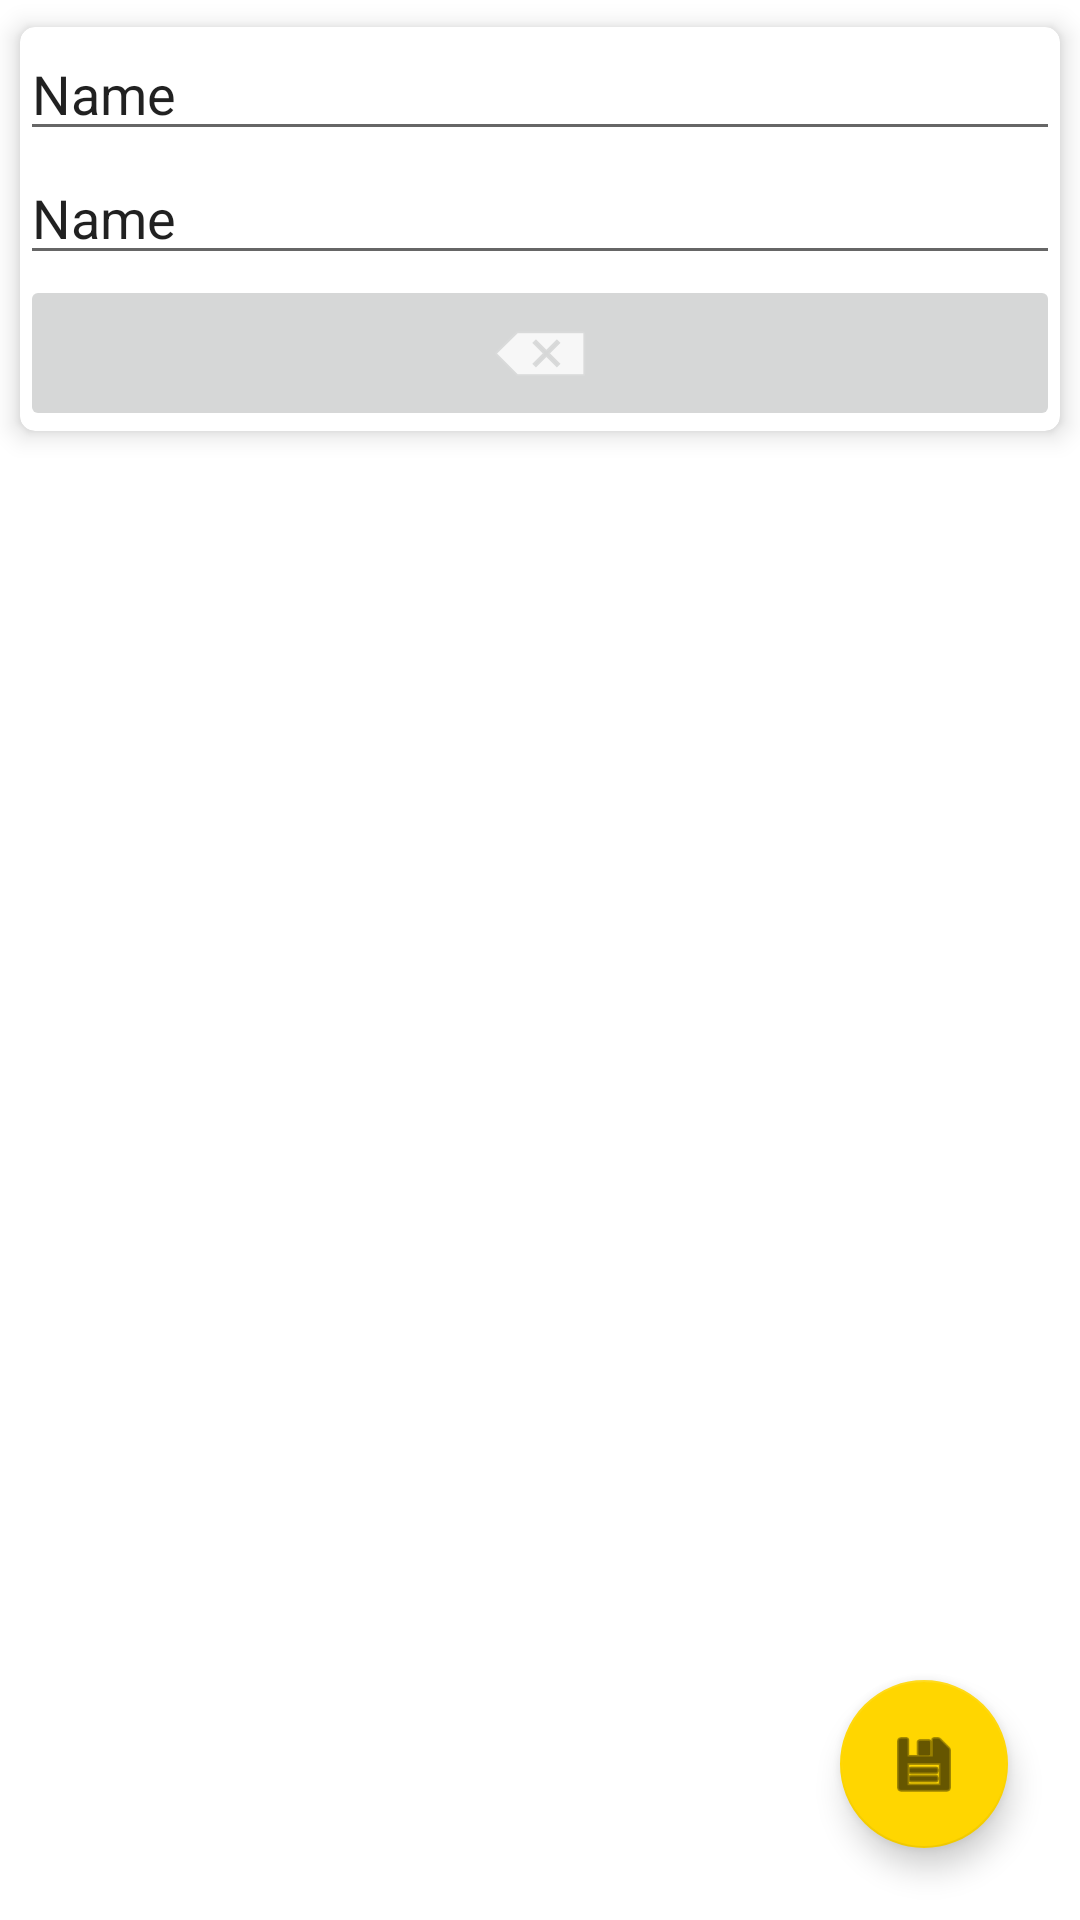

Where to tap for icons on this 1080*1920 app screen, as (x=x, y=y):
Save changes: (x=924, y=1764)
